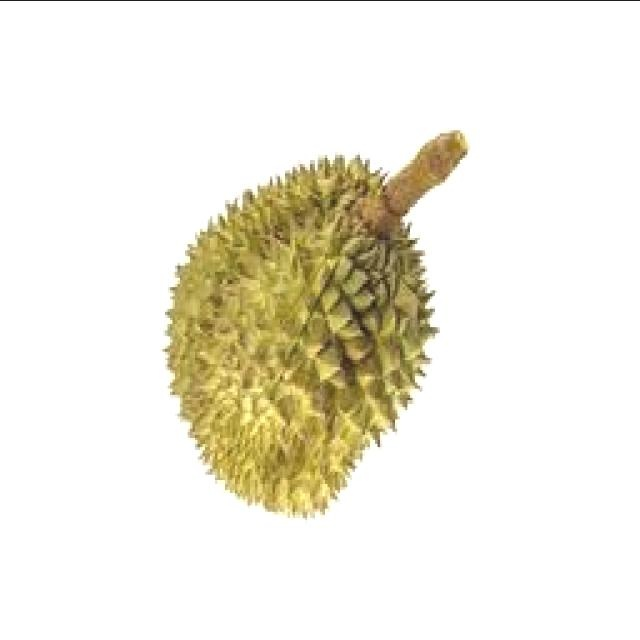agrume: (137, 129, 467, 545)
